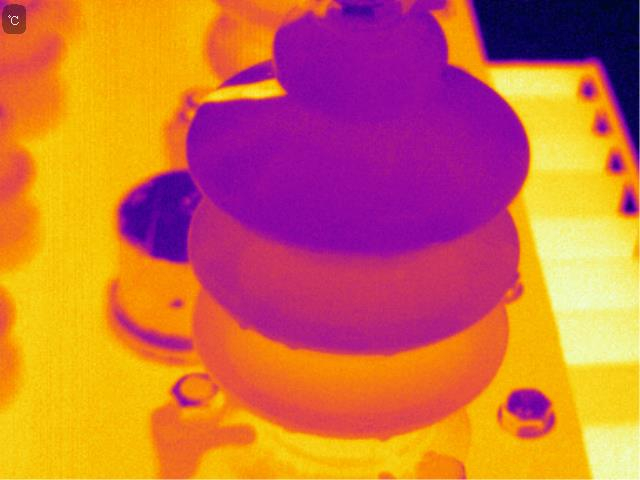Oil: (212, 73, 287, 113), (263, 326, 304, 358), (295, 4, 344, 25), (376, 339, 400, 368), (283, 413, 310, 437), (374, 422, 399, 446), (236, 310, 253, 338)
